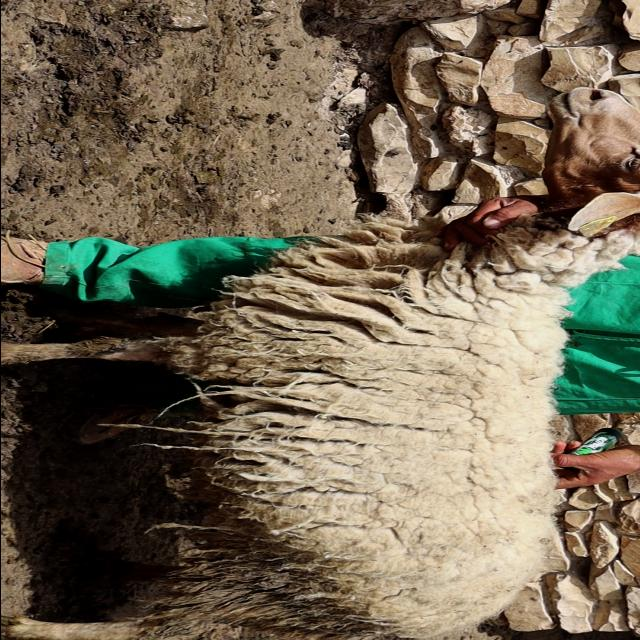Score_2: (1, 88, 640, 640)
